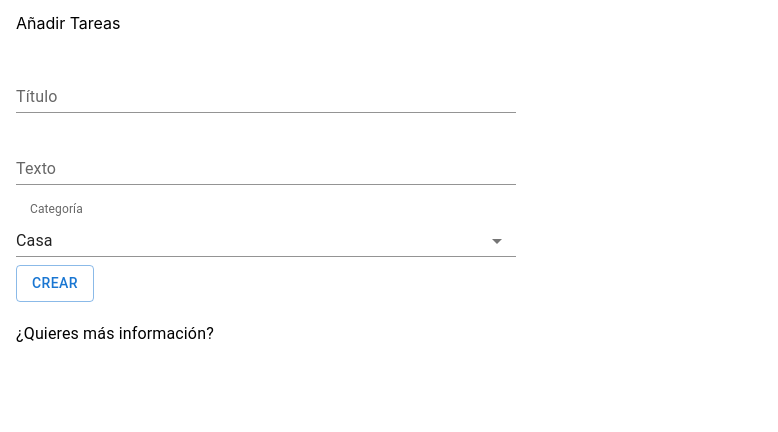
Test case: Tests on Form component › The popover should appear on mouse hover
The image size is (778, 432).
Expected: the text "podrás crear una nueva tarea" is not shown
Hover over the text "¿Quieres más información?".
mouse_move(115, 333)  # box left=16, top=324, right=214, bottom=342
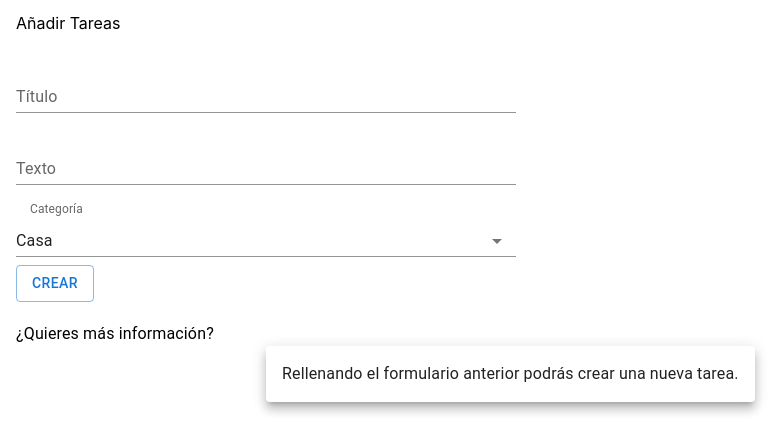
Now the text "podrás crear una nueva tarea" is shown, box left=282, top=364, right=739, bottom=383
Move the pointer off the text "¿Quieres más información?", box left=16, top=324, right=214, bottom=342
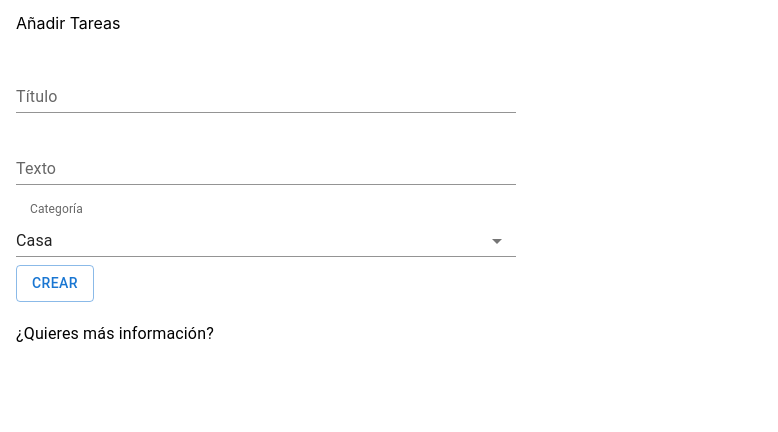
Now the text "podrás crear una nueva tarea" is gone
